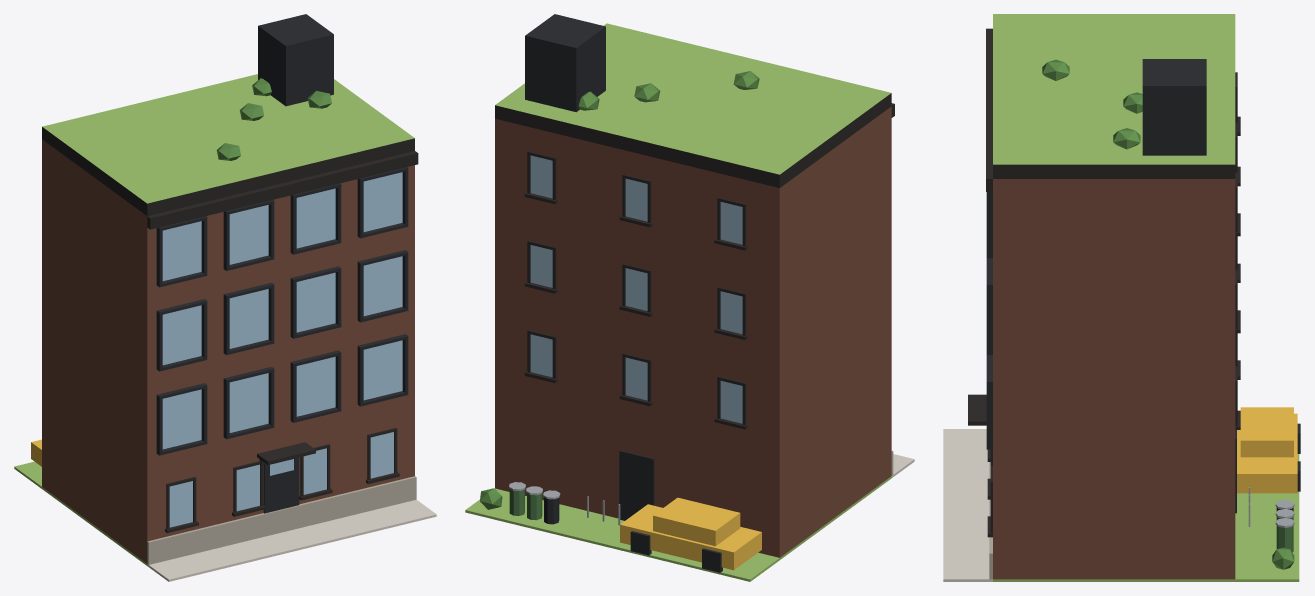
File: Blok_duz_4k_6_Hafif.fbx
3 renders of one model, left to right at view 1: azimuth 30°, elevation 25°; view 2: azimuth 150°, elevation 25°; view 3: azimuth 270°, elevation 25°, orthographic. The views are drawn at different scales.
Visible parts, largest first — view 1: Blok_duz_4k_6_Hafif; view 2: Blok_duz_4k_6_Hafif; view 3: Blok_duz_4k_6_Hafif.
Boxes of the visible parts, <box> form: Blok_duz_4k_6_Hafif: <box>14,14,436,581</box>; Blok_duz_4k_6_Hafif: <box>465,14,914,581</box>; Blok_duz_4k_6_Hafif: <box>943,14,1300,581</box>.
Bounding box in the file's own units: 10 × 15.08 × 10.04.
